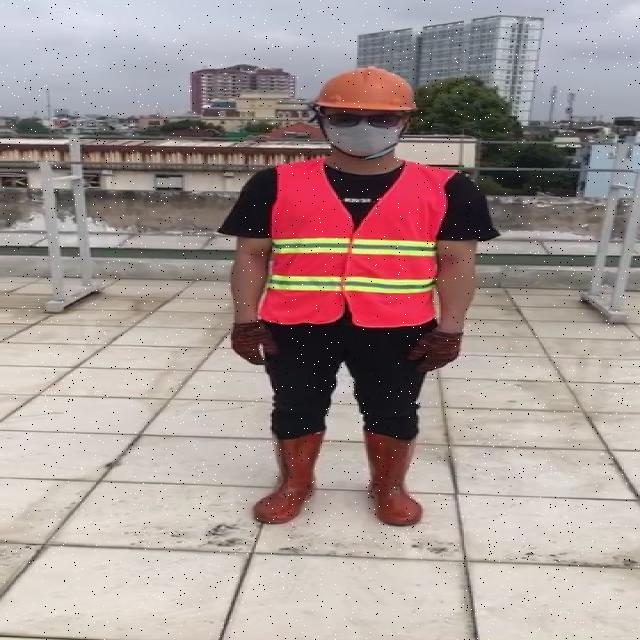Hard_hat: (309, 64, 422, 125)
Vest: (262, 158, 445, 325)
